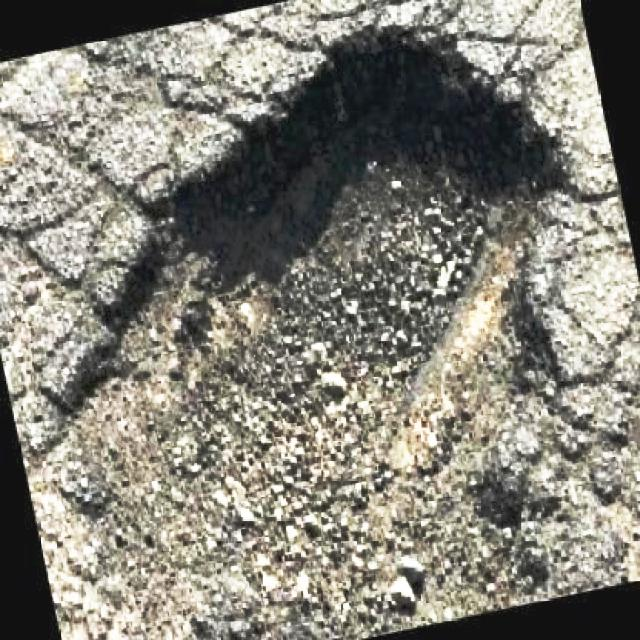pothole: (29, 7, 584, 640)
